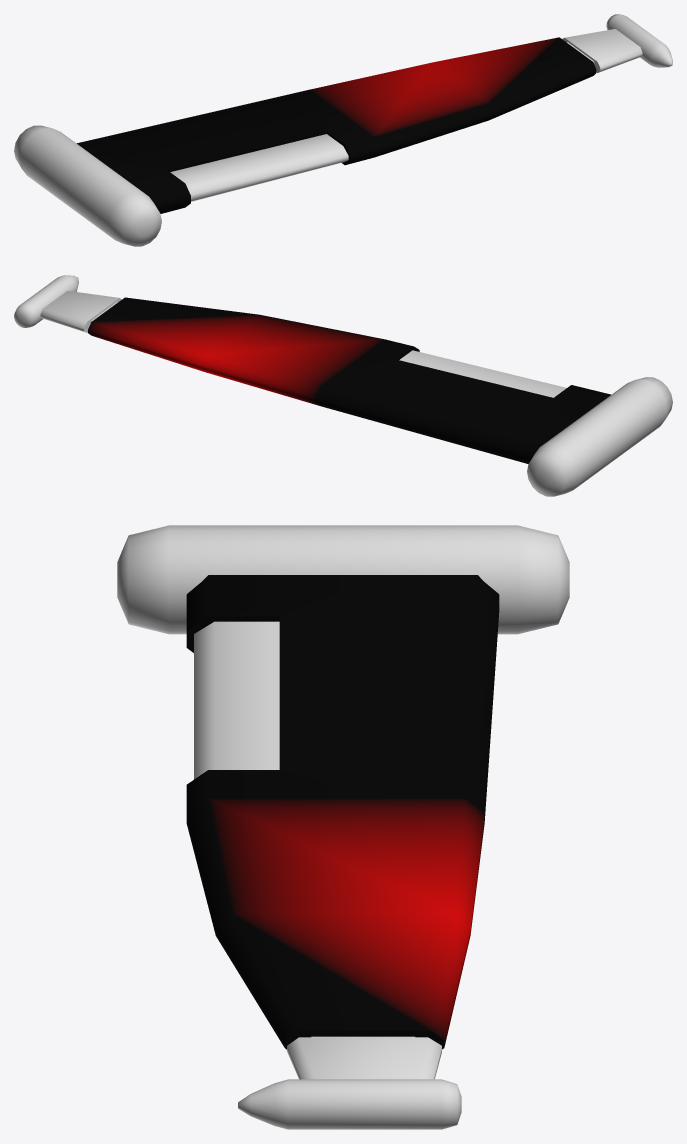
Rendered from Wing01.fbx.
The picture shows the model from 3 angles, top to bottom: view 1: azimuth 30°, elevation 25°; view 2: azimuth 150°, elevation 25°; view 3: azimuth 270°, elevation 25°; orthographic projection. The views are drawn at different scales.
Parts seen in each view (by area): view 1: Cube.004, Cylinder.001, Cube, Cube.001, Cylinder; view 2: Cube.004, Cylinder.001, Cube, Cube.001, Cylinder; view 3: Cube.004, Cylinder.001, Cube, Cylinder, Cube.001.
Part boxes in pixels (x1,y1,x2,y2): Cube.004: [77, 37, 596, 213]; Cylinder.001: [14, 125, 161, 246]; Cube: [170, 134, 348, 201]; Cube.001: [562, 29, 642, 72]; Cylinder: [606, 14, 672, 67]; Cube.004: [88, 297, 610, 463]; Cylinder.001: [527, 377, 672, 496]; Cube: [399, 350, 566, 397]; Cube.001: [40, 290, 121, 332]; Cylinder: [14, 275, 78, 327]; Cube.004: [186, 575, 499, 1049]; Cylinder.001: [117, 525, 569, 634]; Cube: [194, 621, 279, 779]; Cylinder: [238, 1079, 461, 1129]; Cube.001: [287, 1037, 441, 1079].
Bounding box in the file's own units: 998 × 80.91 × 335.
